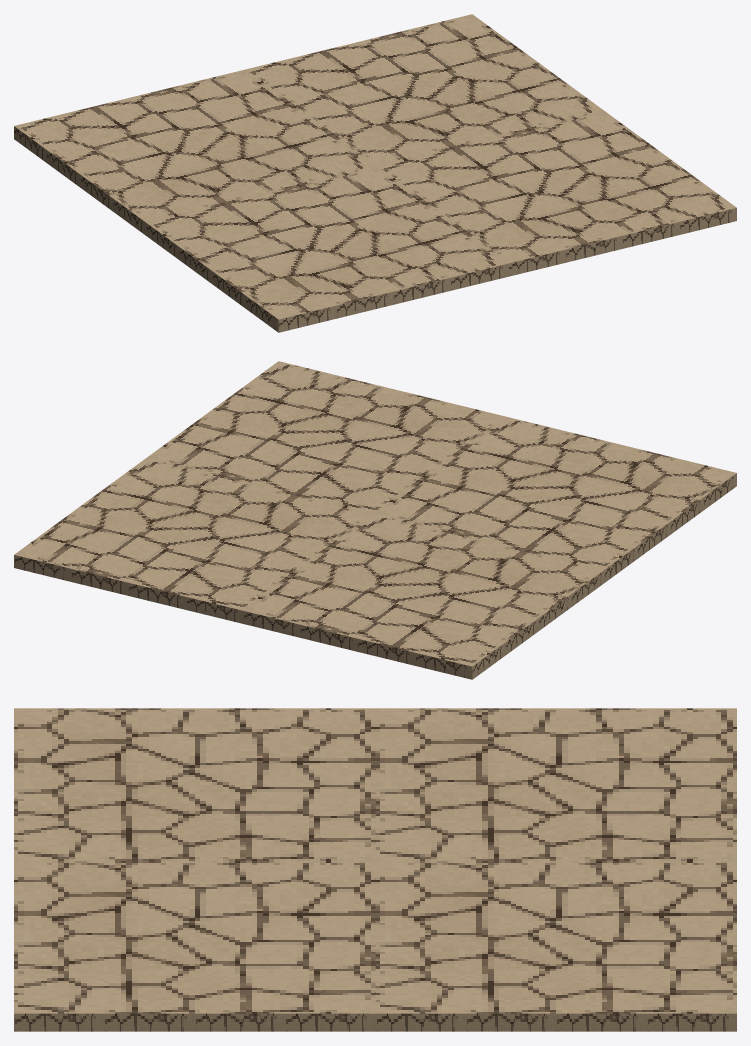
File: ground_cracked_earth.glb
The picture shows the model from 3 angles, top to bottom: view 1: azimuth 30°, elevation 25°; view 2: azimuth 150°, elevation 25°; view 3: azimuth 270°, elevation 25°; orthographic projection. The views are drawn at different scales.
Visible parts, largest first — view 1: ground_cracked_earth; view 2: ground_cracked_earth; view 3: ground_cracked_earth.
Part boxes in pixels (x1,y1,x2,y2): ground_cracked_earth: (14, 14, 736, 332); ground_cracked_earth: (14, 361, 736, 679); ground_cracked_earth: (14, 708, 736, 1031).
Bounding box in the file's own units: 4 × 0.11 × 4.
1 material, 1 textured.
